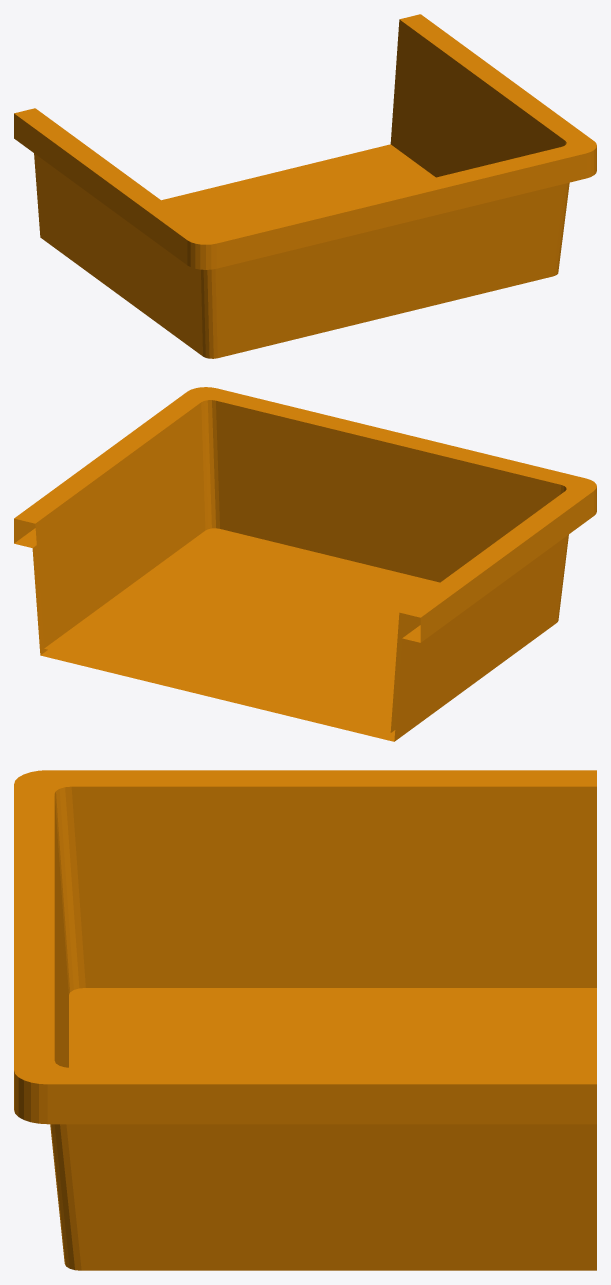
Rendered from container_part1.dae.
3 renders of one model, top to bottom at view 1: azimuth 30°, elevation 25°; view 2: azimuth 150°, elevation 25°; view 3: azimuth 270°, elevation 25°, orthographic. The views are drawn at different scales.
Parts seen in each view (by area): view 1: Cube_003; view 2: Cube_003; view 3: Cube_003.
Boxes of the visible parts, box(x1,y1,x2,y2) form: Cube_003: box(14, 14, 596, 358); Cube_003: box(14, 387, 596, 741); Cube_003: box(14, 770, 596, 1270).
Bounding box in the file's own units: 0.44 × 0.345 × 0.135.
